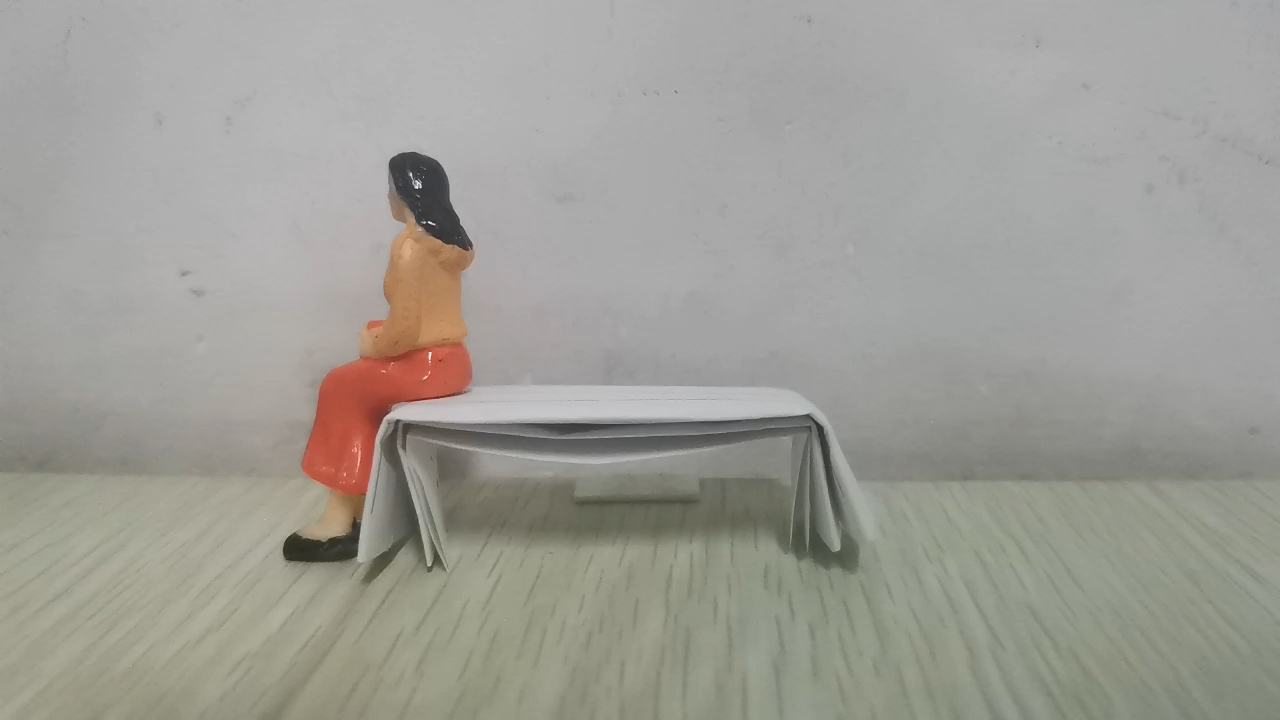person: (278, 149, 478, 566)
